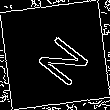N_NW: (23, 24, 87, 86)
